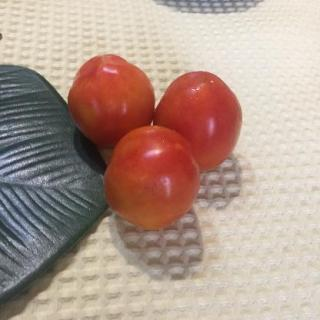Tomat: (61, 48, 280, 247)
